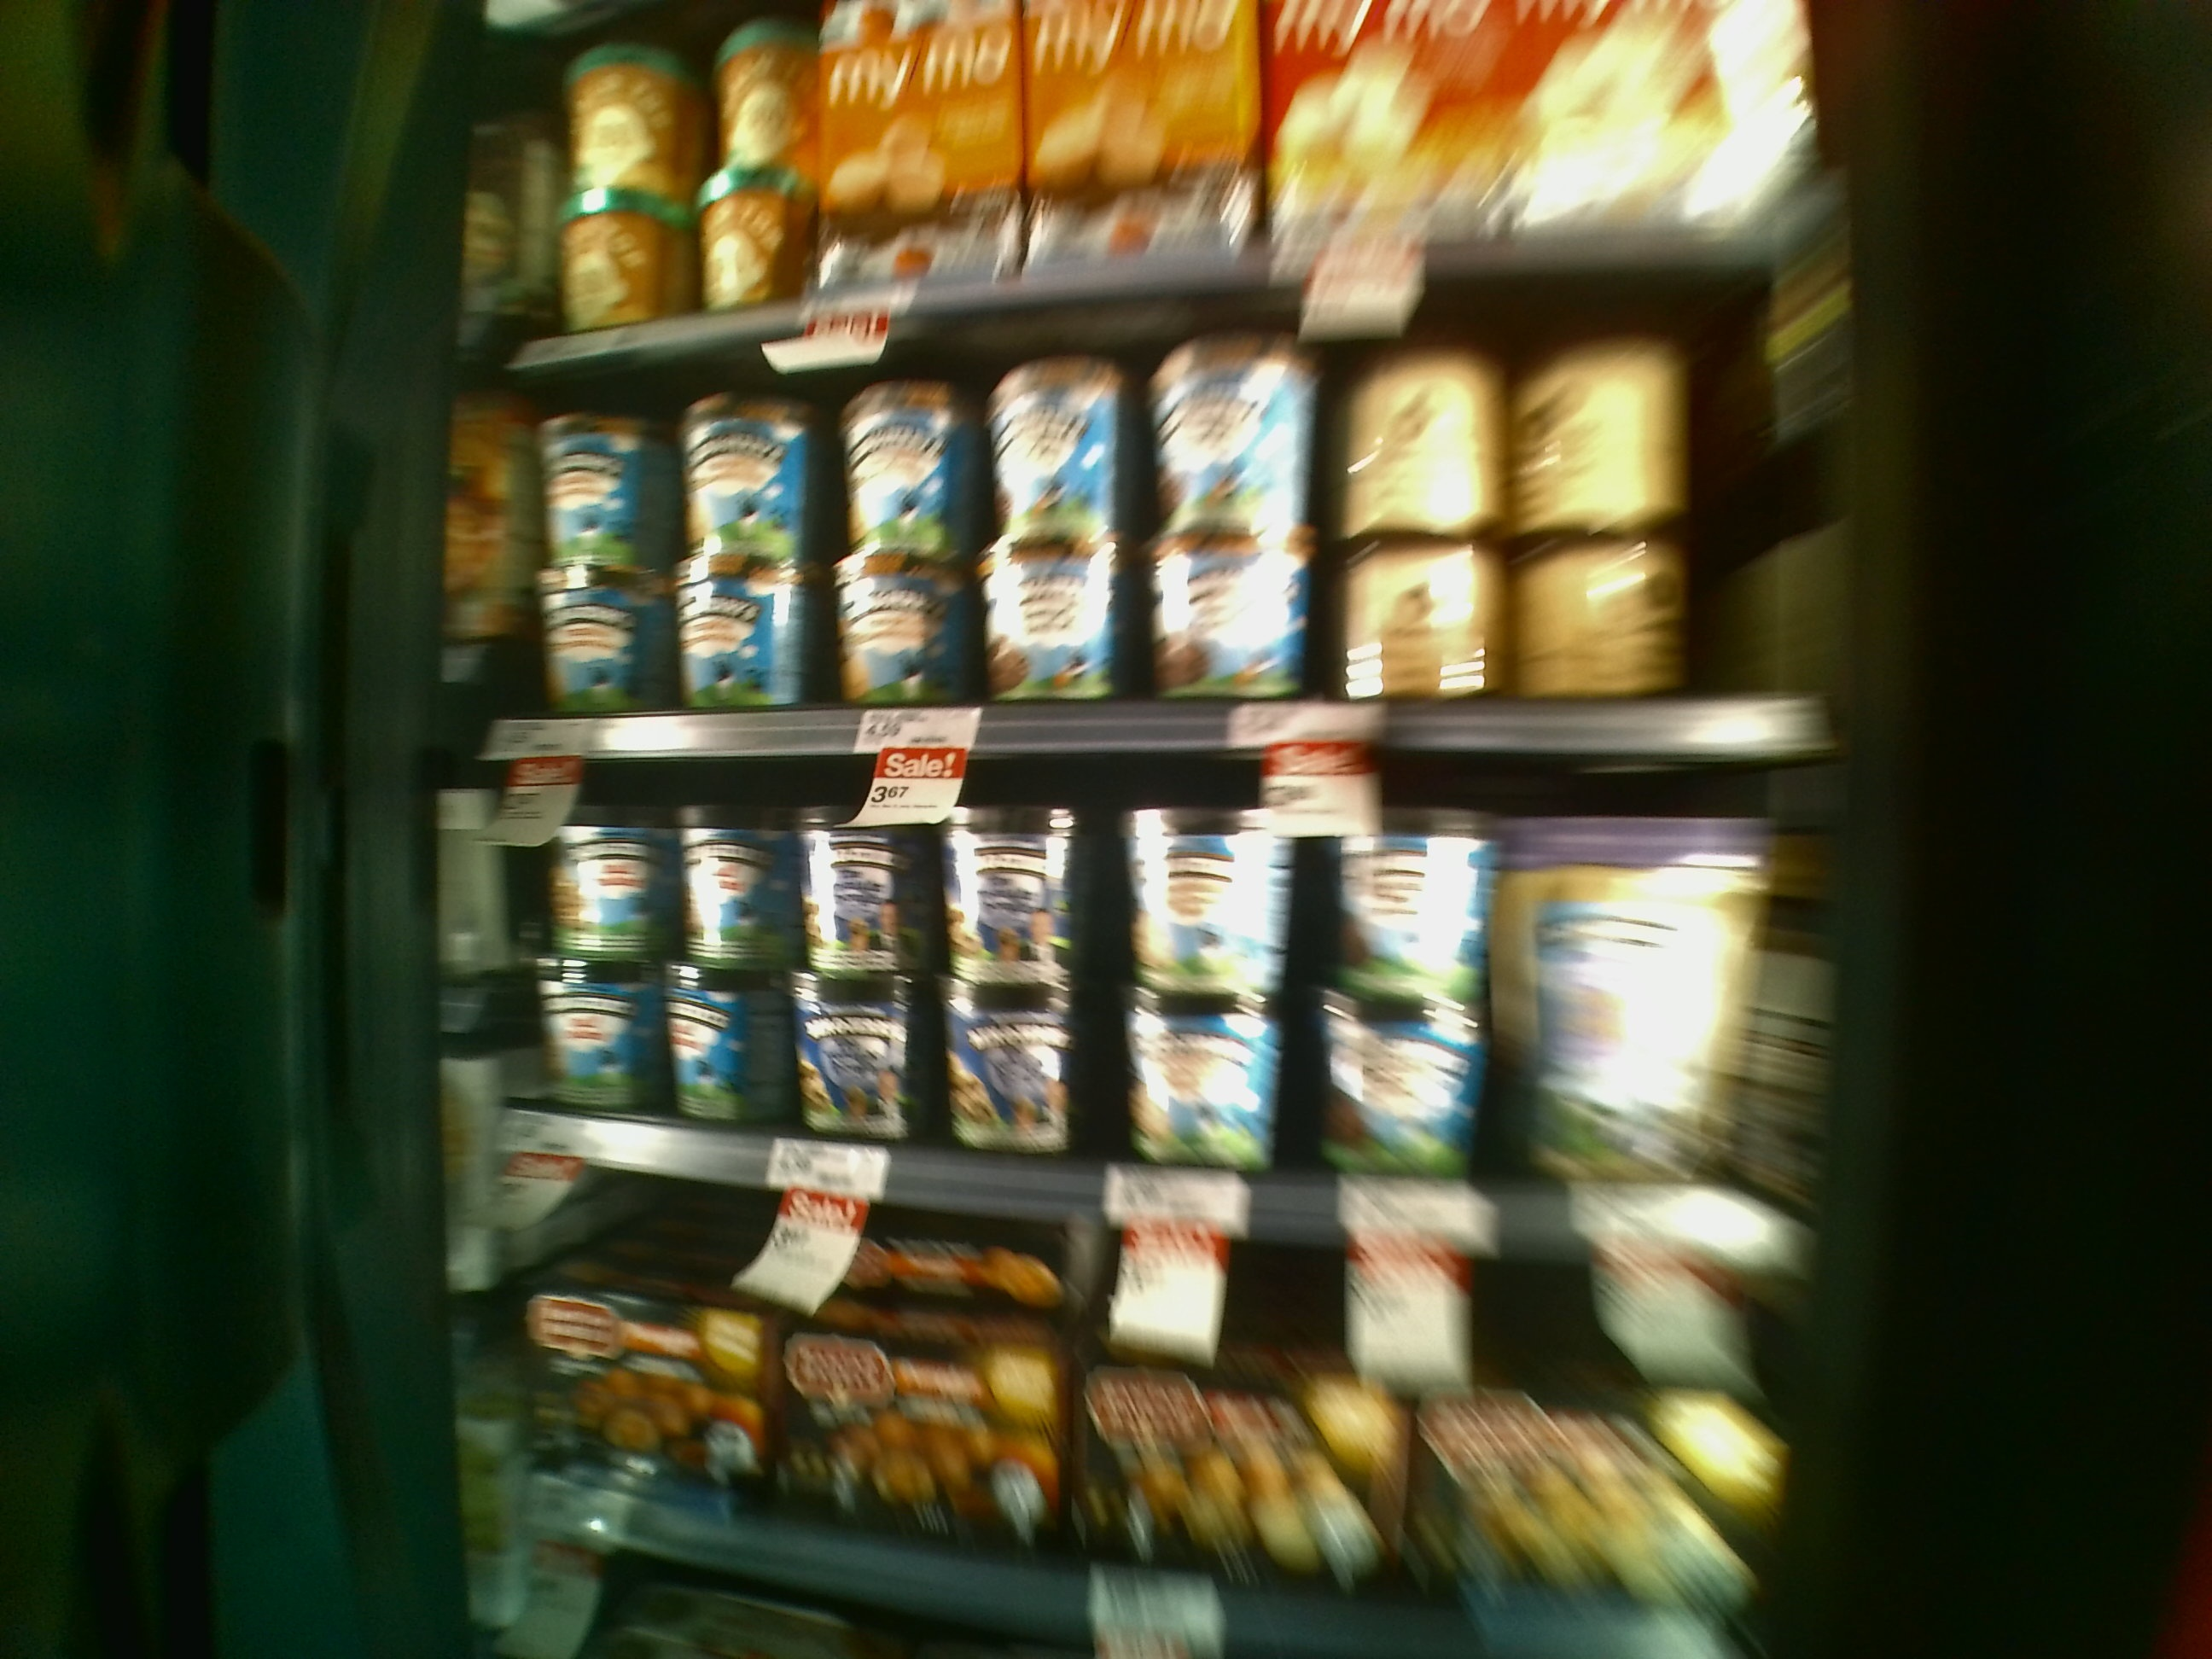shelf: (505, 727, 1825, 1251), (489, 324, 1825, 781)
